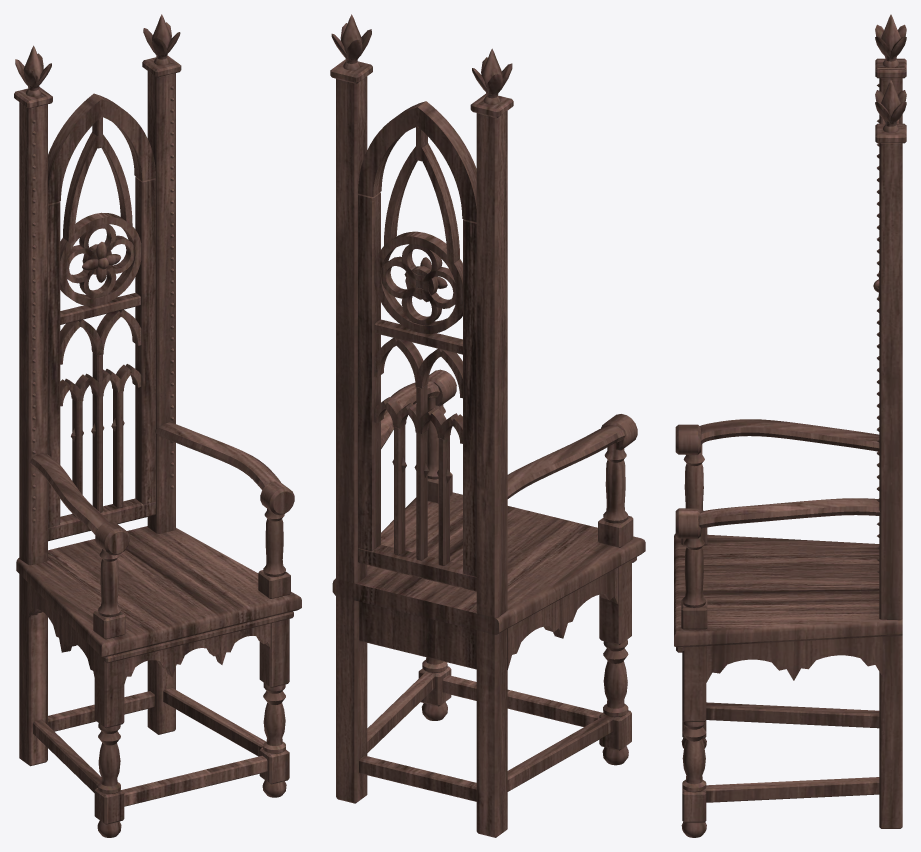
The model's file is wooden-chair_final.glb.
The picture shows the model from 3 angles, left to right: view 1: azimuth 30°, elevation 25°; view 2: azimuth 150°, elevation 25°; view 3: azimuth 270°, elevation 25°; orthographic projection. The views are drawn at different scales.
Visible parts, largest first — view 1: SM_WoodenChair; view 2: SM_WoodenChair; view 3: SM_WoodenChair.
Part boxes in pixels (x1,y1,x2,y2): SM_WoodenChair: (14, 14, 301, 837); SM_WoodenChair: (330, 14, 645, 837); SM_WoodenChair: (674, 14, 906, 837).
Bounding box in the file's own units: 0.478 × 1.63 × 0.4615.
1 material, 1 textured.
